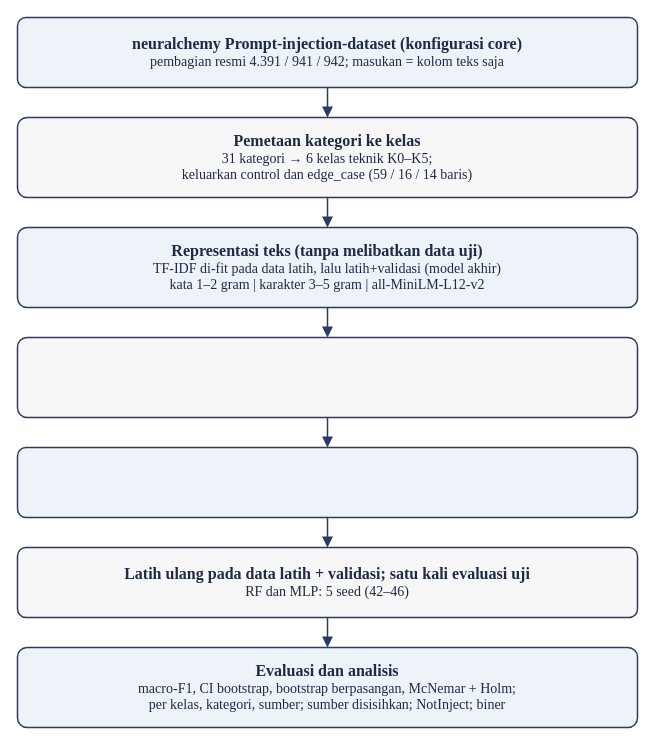
This 656x746 diagram has some shape labels left out. Here are the shapes that lost their labels. From the top down, the centre of each, then its label:
At point 327,377: "Pengklasifikasi Naive Bayes | SVM | Random Forest | MLP (4 × 3 = 12 konfigurasi)".
At point 327,482: "Pencarian hiperparameter pada data validasi kriteria pemilihan: macro-F1".
